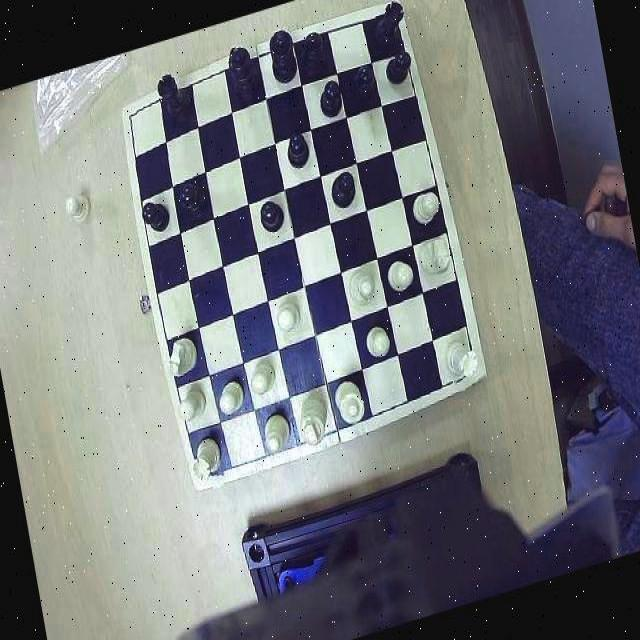chess-table-corners: (451, 352, 487, 392), (191, 455, 227, 493), (374, 6, 406, 41), (124, 100, 150, 132)
